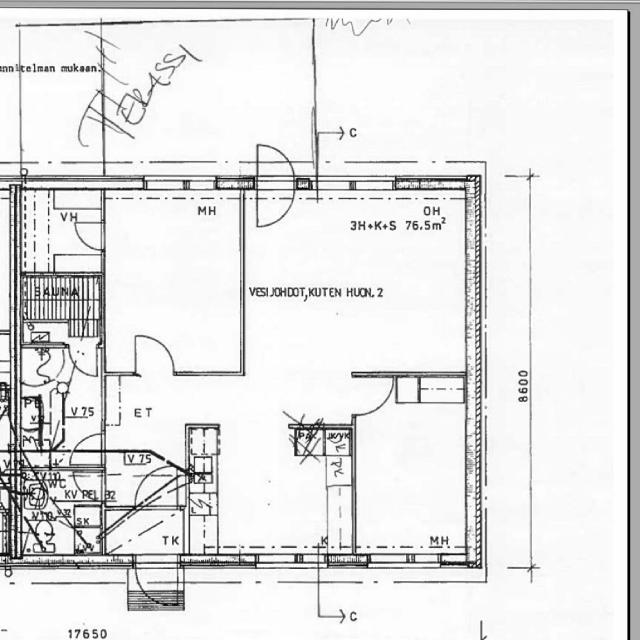door: (134, 558, 181, 612), (254, 140, 295, 193), (130, 332, 176, 378), (352, 375, 395, 419), (254, 184, 295, 230), (66, 338, 102, 380), (70, 219, 108, 253), (74, 108, 105, 148), (72, 431, 105, 454)
window: (138, 172, 222, 195), (363, 550, 447, 570), (173, 365, 237, 382), (252, 552, 302, 570)
zone: (101, 20, 311, 172), (102, 188, 243, 376), (253, 193, 468, 310), (352, 392, 471, 563), (196, 422, 329, 563), (19, 27, 102, 166), (17, 343, 103, 459), (11, 479, 102, 562), (19, 189, 103, 274), (20, 271, 102, 335), (105, 455, 186, 509), (102, 508, 183, 556)
